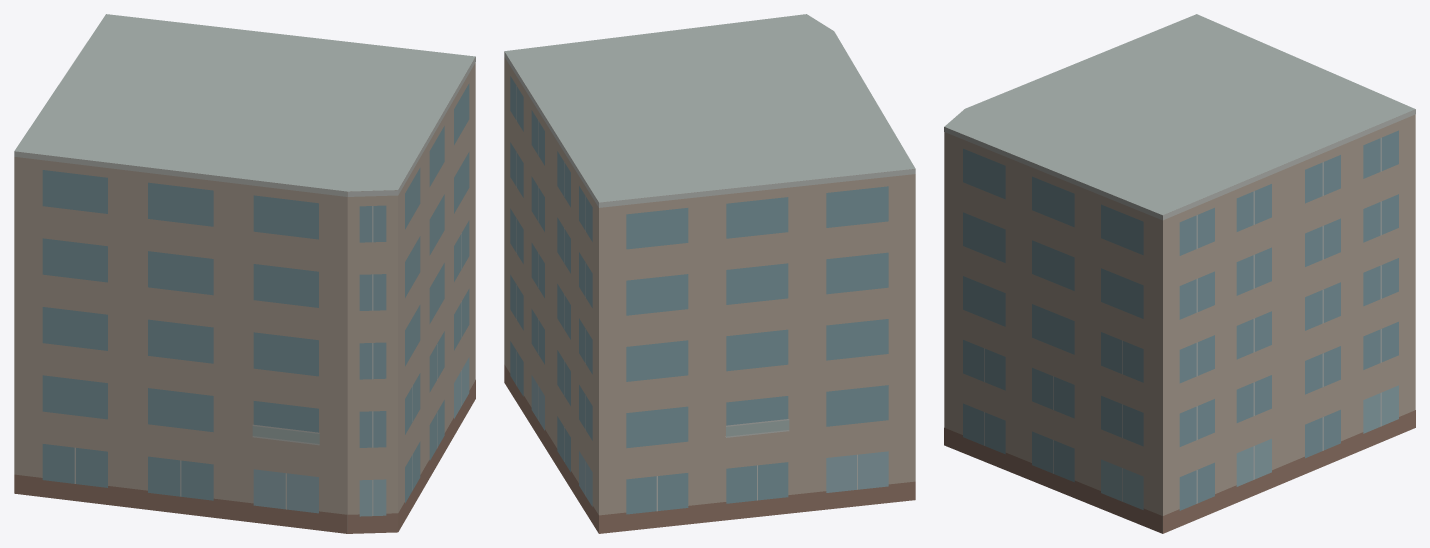
File: survey-upis-32722416.glb
3 views of the same model, side by side, from view 1: azimuth 30°, elevation 25°; view 2: azimuth 150°, elevation 25°; view 3: azimuth 270°, elevation 25° (orthographic). The views are drawn at different scales.
Visible parts, largest first — view 1: survey-upis-32722416.tmp; view 2: survey-upis-32722416.tmp; view 3: survey-upis-32722416.tmp.
Part boxes in pixels (x1,y1,x2,y2): survey-upis-32722416.tmp: (14,14,475,533); survey-upis-32722416.tmp: (504,14,915,533); survey-upis-32722416.tmp: (944,14,1415,533).
Size of the model in its own units: 20.67 by 15.25 by 20.47.
